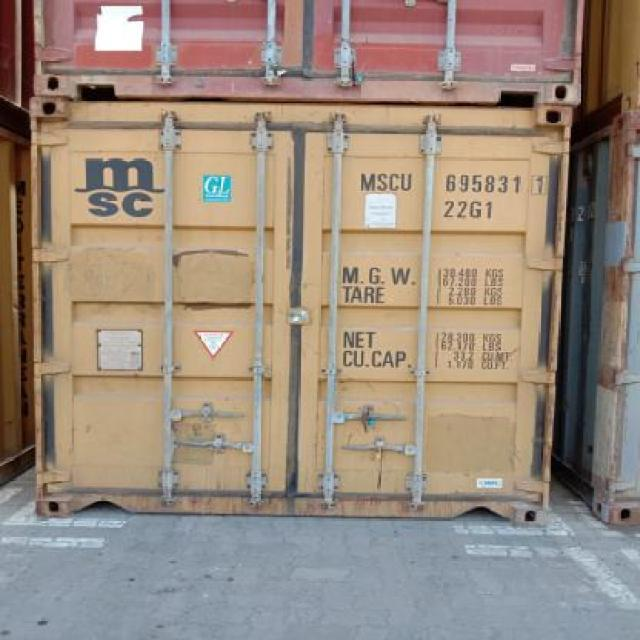ISO: (444, 198, 494, 220)
container_number: (362, 169, 542, 196)
